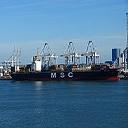Ships: (11, 56, 123, 83)
